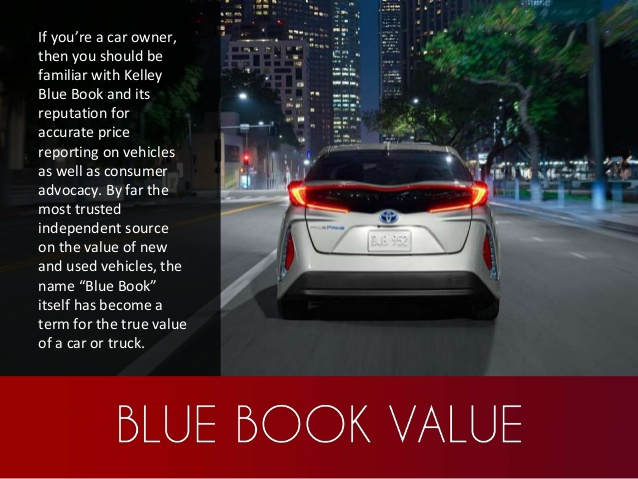Toyota Prius: (274, 138, 506, 324)
